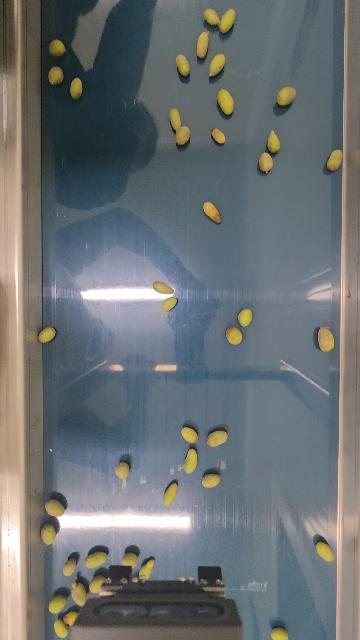Baby Potato: (216, 88, 236, 116), (204, 427, 230, 448), (218, 7, 237, 35), (195, 29, 212, 60), (207, 52, 226, 78), (317, 326, 335, 353), (276, 85, 299, 106), (202, 200, 222, 224), (315, 540, 335, 563), (84, 550, 108, 569), (183, 447, 199, 475), (152, 278, 176, 296), (71, 581, 88, 606), (175, 52, 192, 77), (202, 6, 222, 27), (48, 593, 68, 614), (326, 148, 344, 171), (162, 481, 178, 506), (68, 76, 84, 100), (45, 498, 65, 517), (225, 325, 243, 346), (266, 129, 281, 154), (168, 106, 183, 131), (174, 124, 191, 146), (139, 557, 155, 580), (40, 523, 56, 546), (47, 38, 66, 57), (180, 425, 199, 444), (47, 65, 64, 86), (257, 151, 273, 173), (53, 618, 69, 640), (38, 325, 56, 344), (237, 307, 254, 327), (201, 472, 221, 489), (62, 557, 77, 578), (160, 295, 178, 312), (88, 575, 103, 594), (211, 127, 226, 145), (115, 461, 130, 479), (270, 626, 289, 640), (63, 609, 79, 625), (123, 552, 138, 567)
